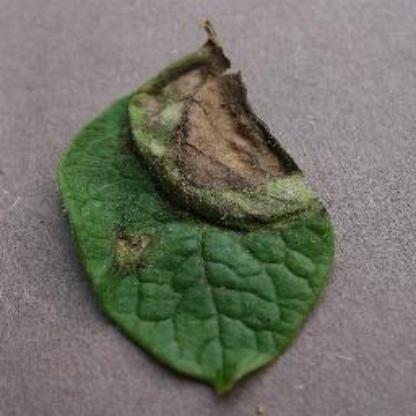Late-Blight: (62, 18, 350, 398)
